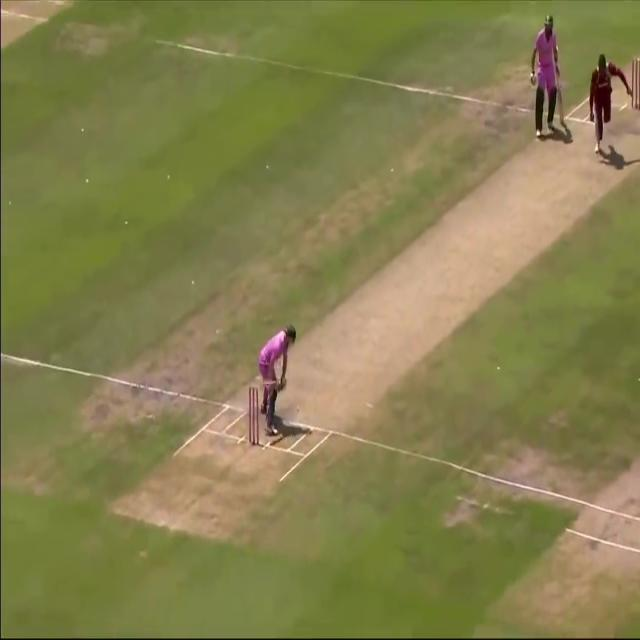Ball: (220, 314, 302, 443), (528, 10, 572, 143)
Fielder: (587, 50, 632, 163)
